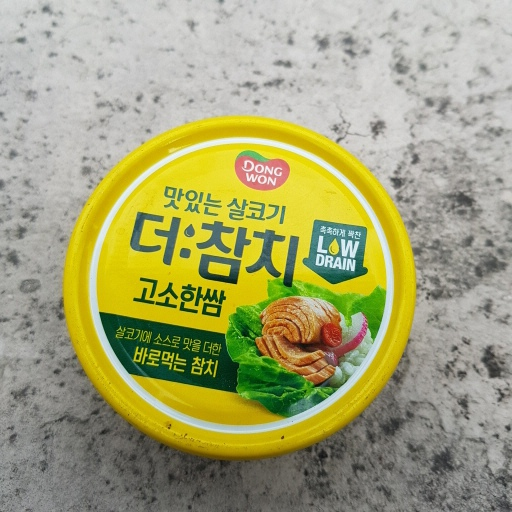Metal_1: (61, 114, 420, 463)
